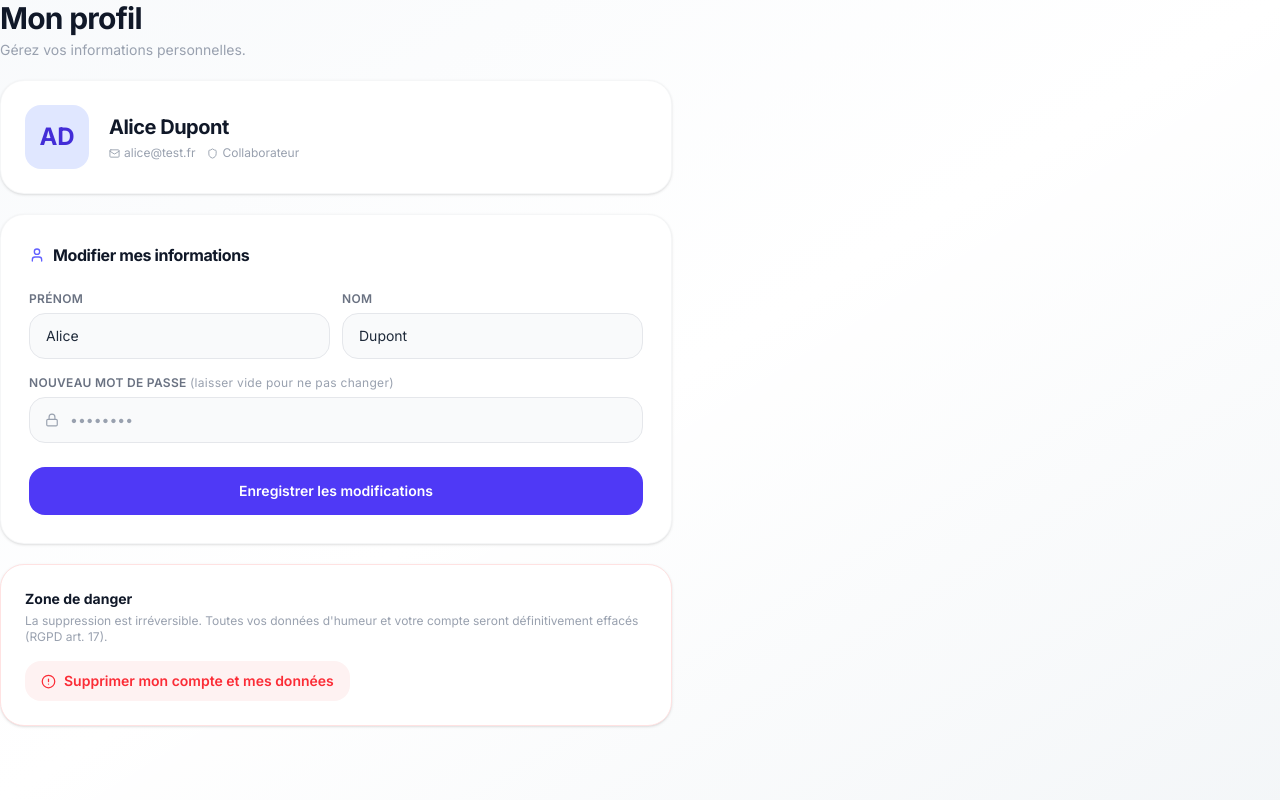
Test case: Profile — Suppression RGPD › ouvre la modale de confirmation au clic sur Supprimer
This screenshot has width=1280, height=800.
What coordinates should you click on to do the following:
click the button "Supprimer mon compte et mes données"
I would click on:
 (187, 681)
Its box is top-left (25, 661), bottom-right (350, 701).
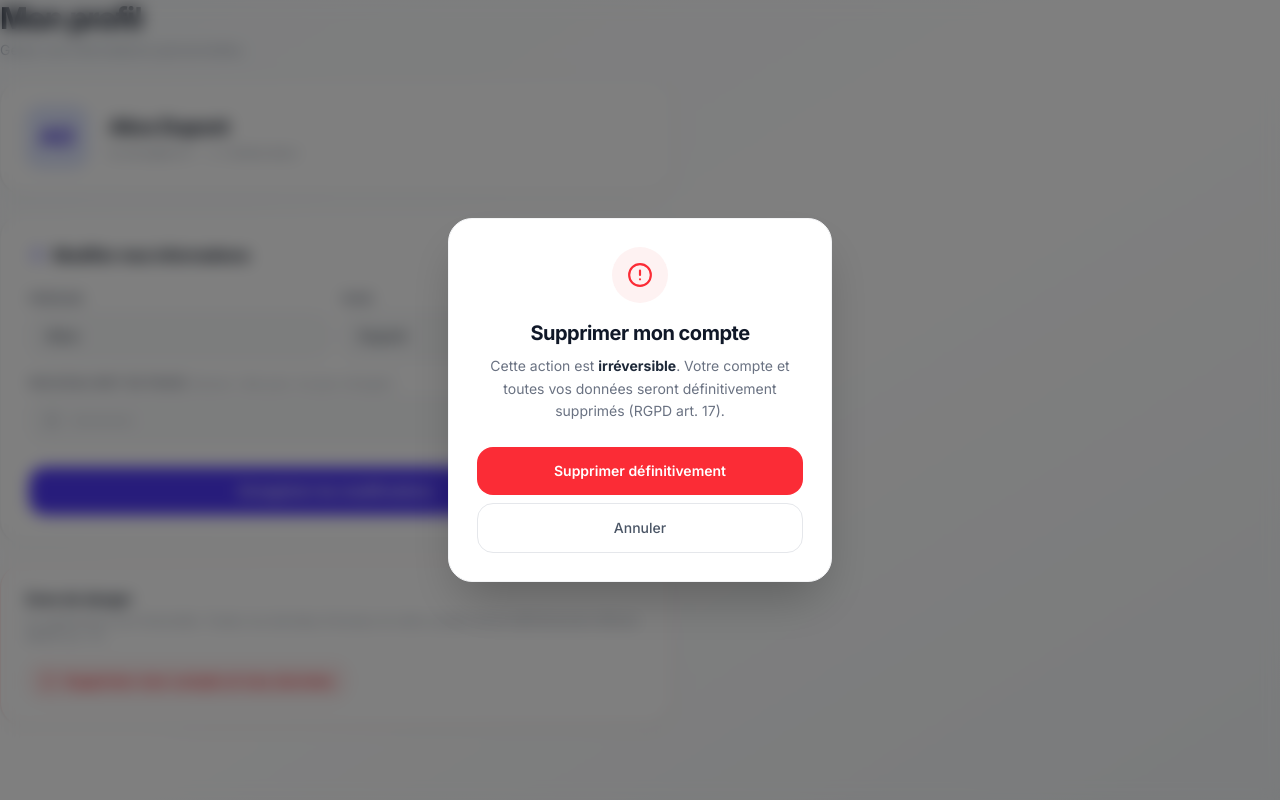
Result: the button "Supprimer définitivement" is shown at top-left (477, 447), bottom-right (803, 495)
